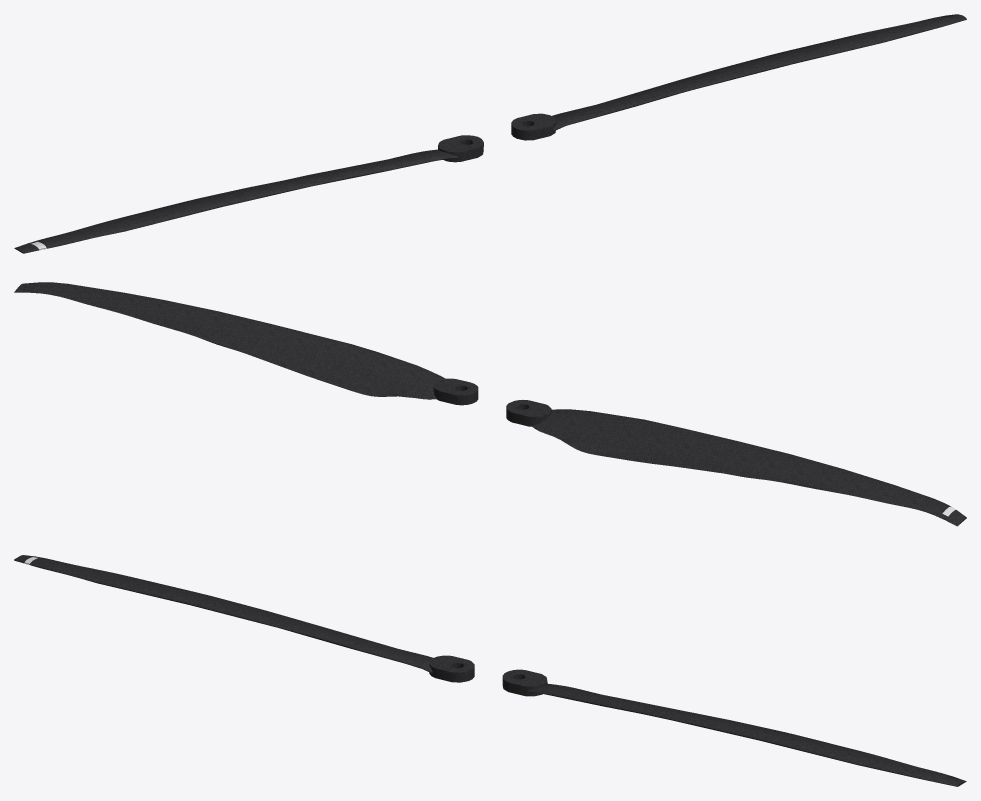
The picture shows the model from 3 angles, top to bottom: view 1: azimuth 30°, elevation 25°; view 2: azimuth 150°, elevation 25°; view 3: azimuth 330°, elevation 25°; orthographic projection.
Visible parts, largest first — view 1: Propela_CW_1, Propela_CCW_2; view 2: Propela_CCW_2, Propela_CW_1; view 3: Propela_CCW_2, Propela_CW_1.
Boxes of the visible parts, box(x1,y1,x2,y2) form: Propela_CW_1: box(511, 14, 966, 140); Propela_CCW_2: box(14, 135, 483, 253); Propela_CCW_2: box(506, 400, 966, 526); Propela_CW_1: box(14, 282, 478, 405); Propela_CCW_2: box(14, 555, 474, 682); Propela_CW_1: box(502, 669, 966, 786).
Bounding box in the file's own units: 423 × 11.31 × 22.51.
Materials: 3 (2 with a texture image).
